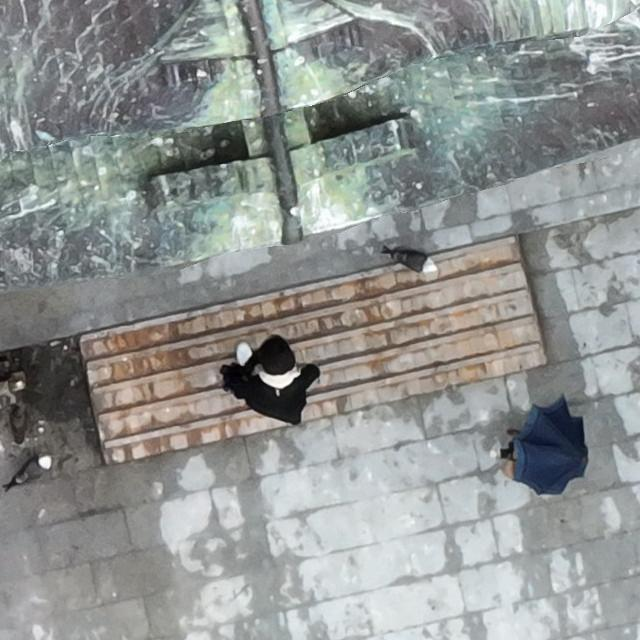umineko: (395, 252, 431, 272), (20, 458, 49, 481)
